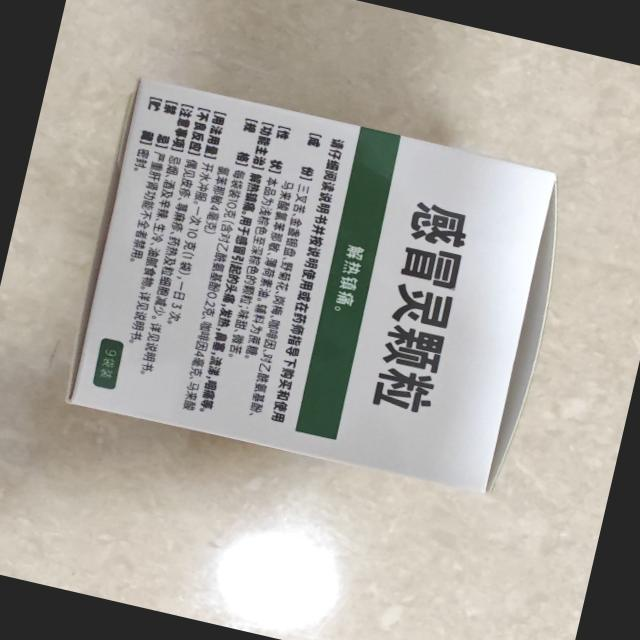box: (49, 63, 590, 518)
